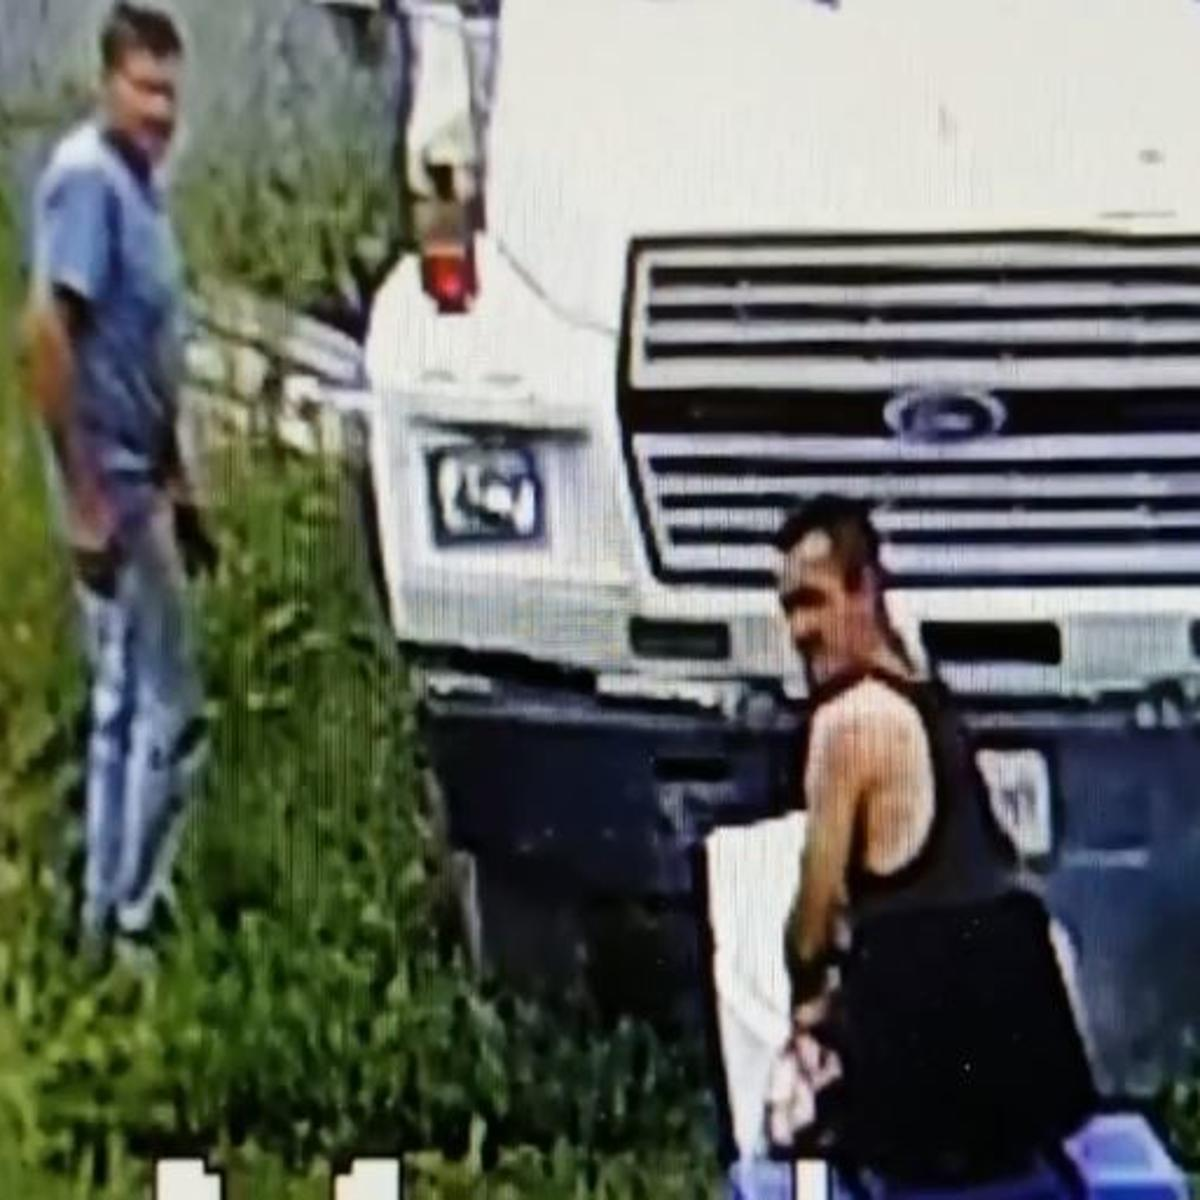Person: (729, 479, 1110, 1196), (32, 6, 224, 958)
